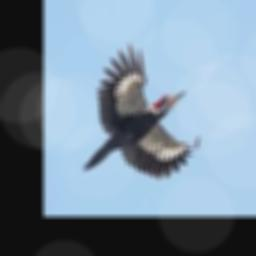Woodpecker: (83, 43, 200, 178)
